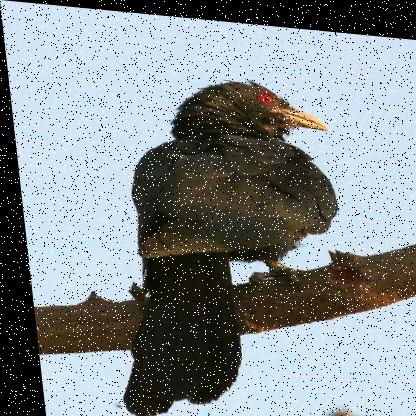Burung: (84, 62, 353, 415)
